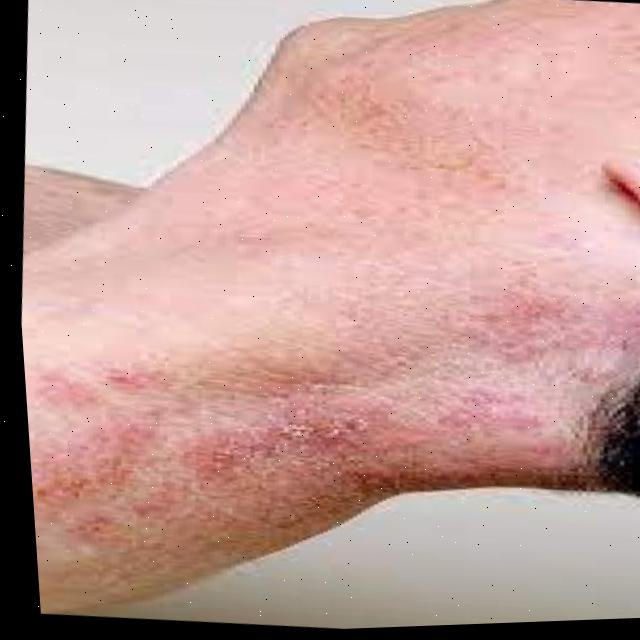Shingles: (41, 242, 640, 617)
